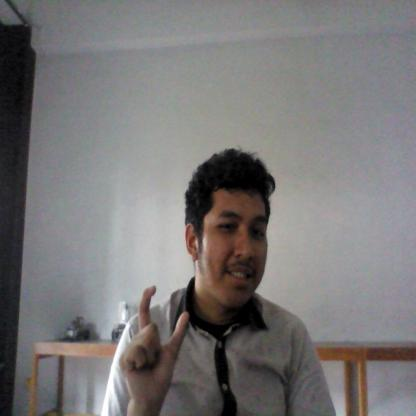U: (118, 285, 190, 409)
